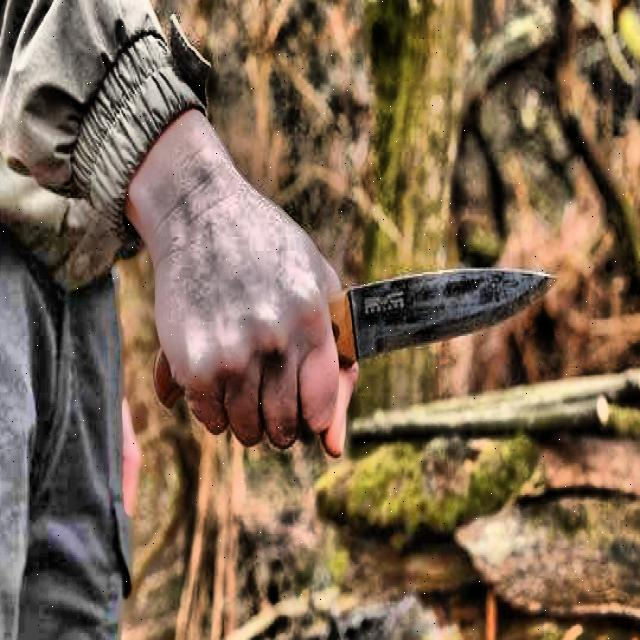knife: (155, 267, 556, 405)
